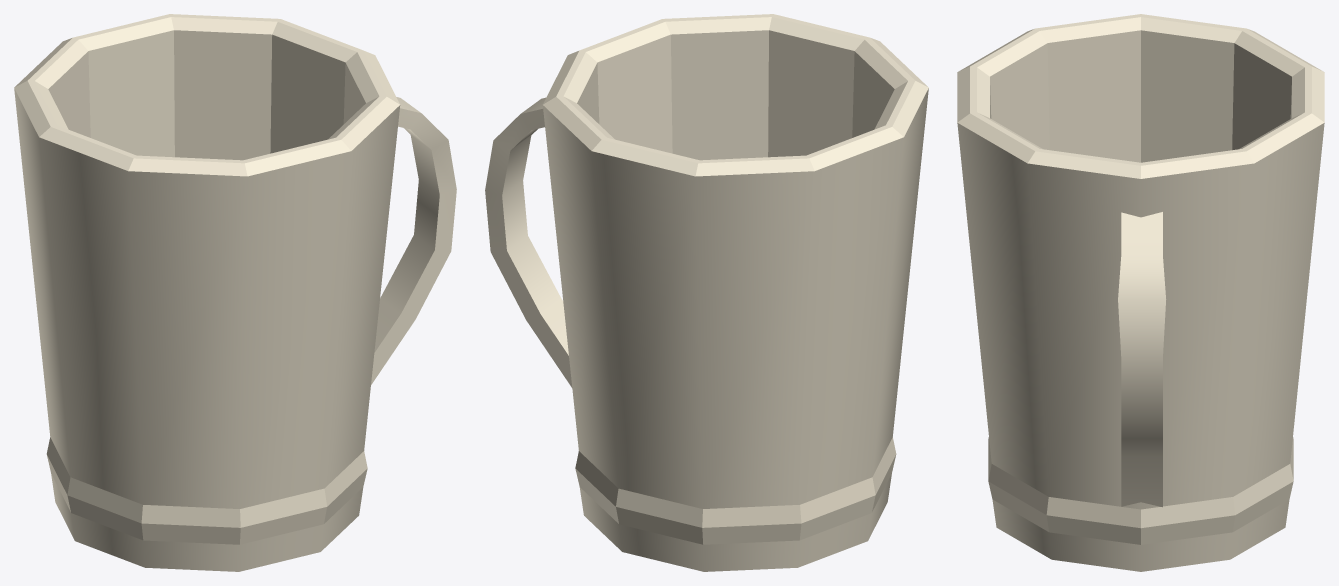
File: SM_mug_02.fbx
3 views of the same model, side by side, from view 1: azimuth 30°, elevation 25°; view 2: azimuth 150°, elevation 25°; view 3: azimuth 270°, elevation 25° (orthographic).
Parts seen in each view (by area): view 1: mug_02; view 2: mug_02; view 3: mug_02.
Part boxes in pixels (bbox=[...]): mug_02: bbox=[14, 14, 456, 571]; mug_02: bbox=[485, 14, 928, 571]; mug_02: bbox=[957, 14, 1324, 571].
Size of the model in its own units: 20.36 by 20.17 by 15.96.
